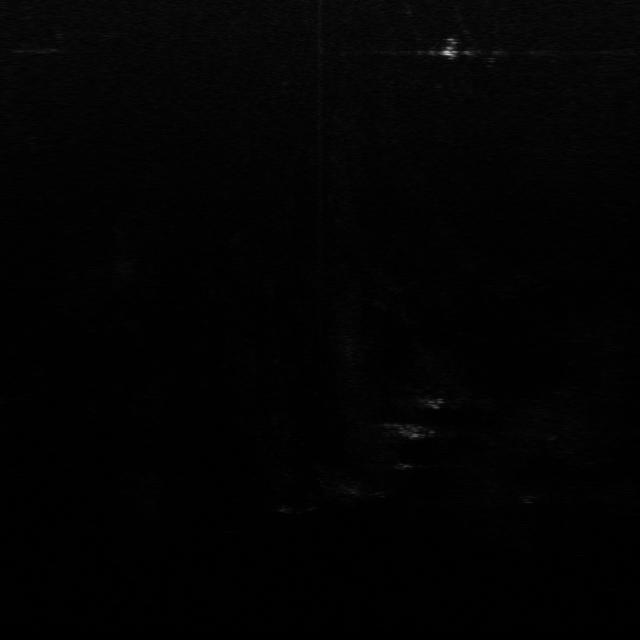rov: (436, 34, 466, 59)
